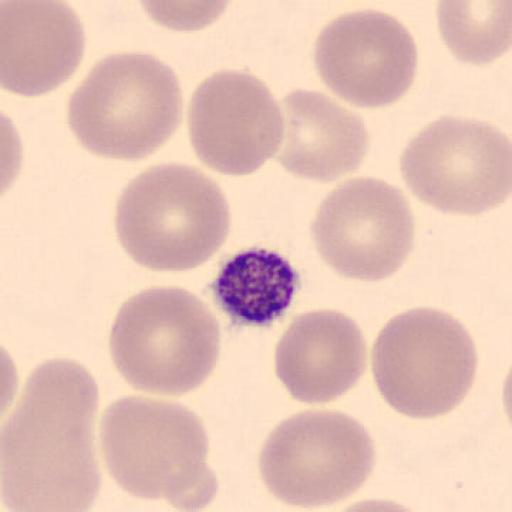Platelet: (205, 243, 304, 330)
RBC: (0, 354, 102, 511), (112, 160, 234, 274), (66, 49, 184, 163), (107, 283, 222, 397), (370, 304, 479, 421), (256, 408, 377, 510), (98, 394, 209, 502), (398, 113, 512, 218), (308, 174, 416, 284), (312, 7, 420, 110), (186, 68, 285, 177), (272, 86, 371, 183), (273, 309, 368, 406), (2, 1, 88, 98), (435, 0, 512, 66), (136, 0, 235, 34), (160, 457, 221, 512), (0, 110, 24, 202), (312, 495, 435, 512), (1, 341, 20, 422), (500, 355, 512, 431)
